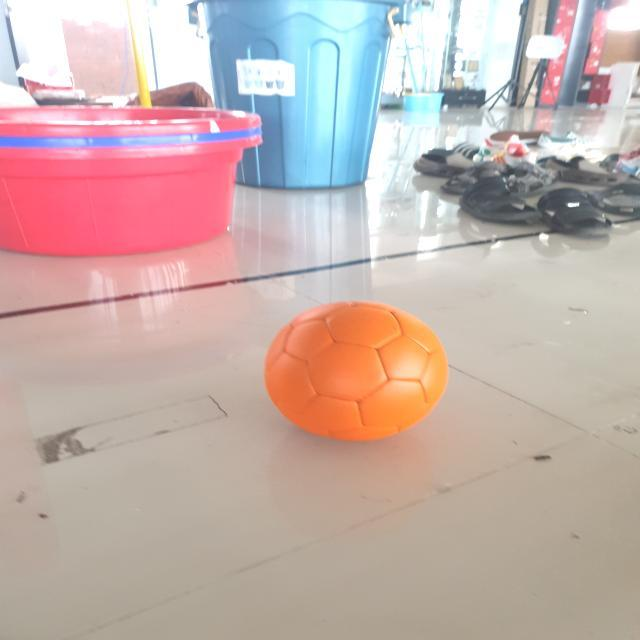bola: (262, 298, 451, 452)
